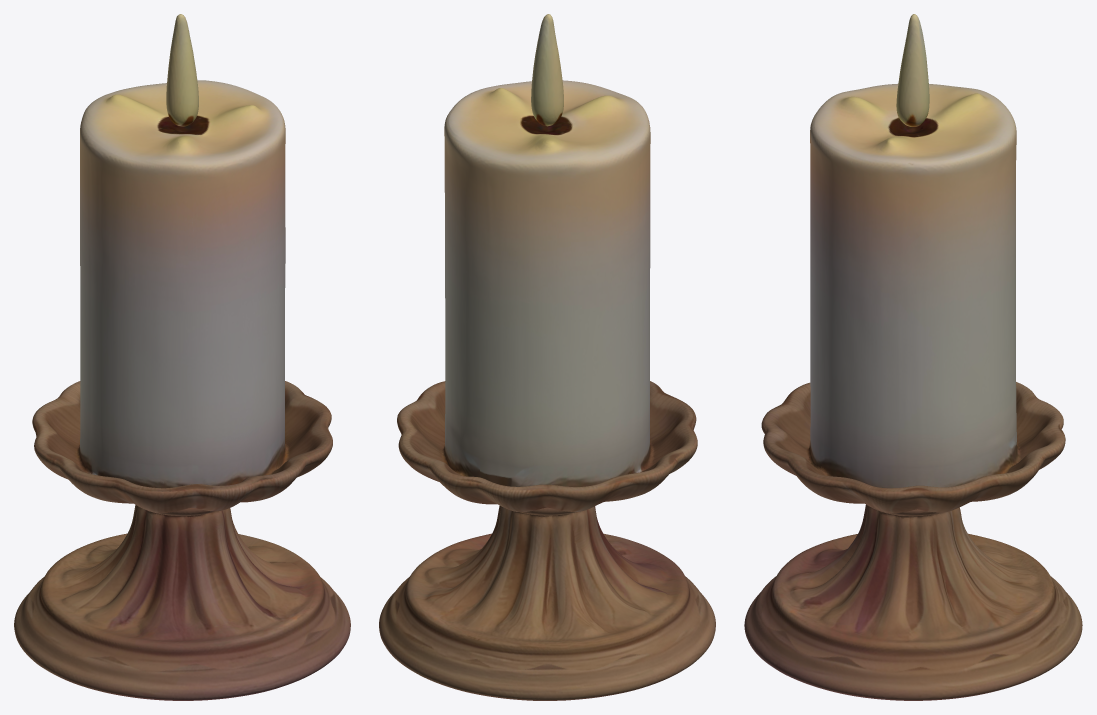
Rendered from candle-05.glb.
The picture shows the model from 3 angles, left to right: view 1: azimuth 30°, elevation 25°; view 2: azimuth 150°, elevation 25°; view 3: azimuth 270°, elevation 25°; orthographic projection.
Parts seen in each view (by area): view 1: tripo_node_9a1db249-5c71-41eb-a8b8-3dd4af8d873c; view 2: tripo_node_9a1db249-5c71-41eb-a8b8-3dd4af8d873c; view 3: tripo_node_9a1db249-5c71-41eb-a8b8-3dd4af8d873c.
Part boxes in pixels (box(x1,y1,x2,y2)): tripo_node_9a1db249-5c71-41eb-a8b8-3dd4af8d873c: box(14, 14, 350, 700); tripo_node_9a1db249-5c71-41eb-a8b8-3dd4af8d873c: box(379, 14, 715, 700); tripo_node_9a1db249-5c71-41eb-a8b8-3dd4af8d873c: box(744, 14, 1082, 700).
Size of the model in its own units: 0.4607 by 0.9492 by 0.4629.
Materials: 1 (1 with a texture image).
